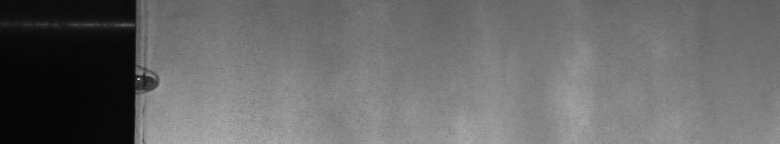hb: (144, 36, 165, 102)
